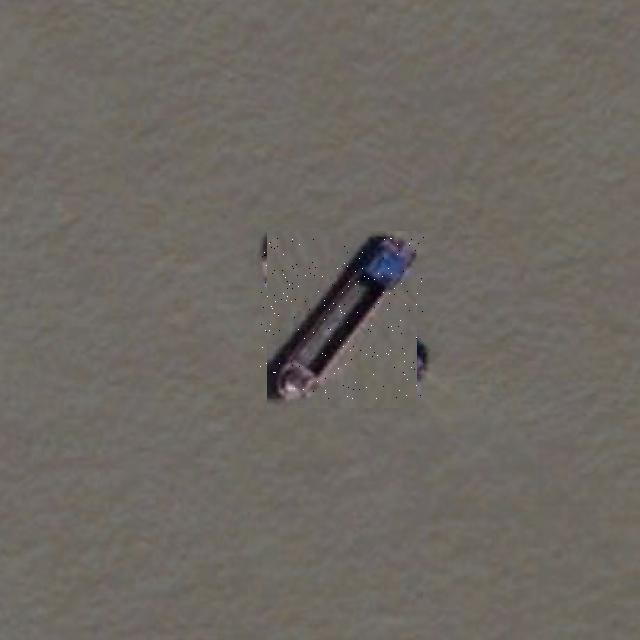boat: (260, 238, 424, 402)
